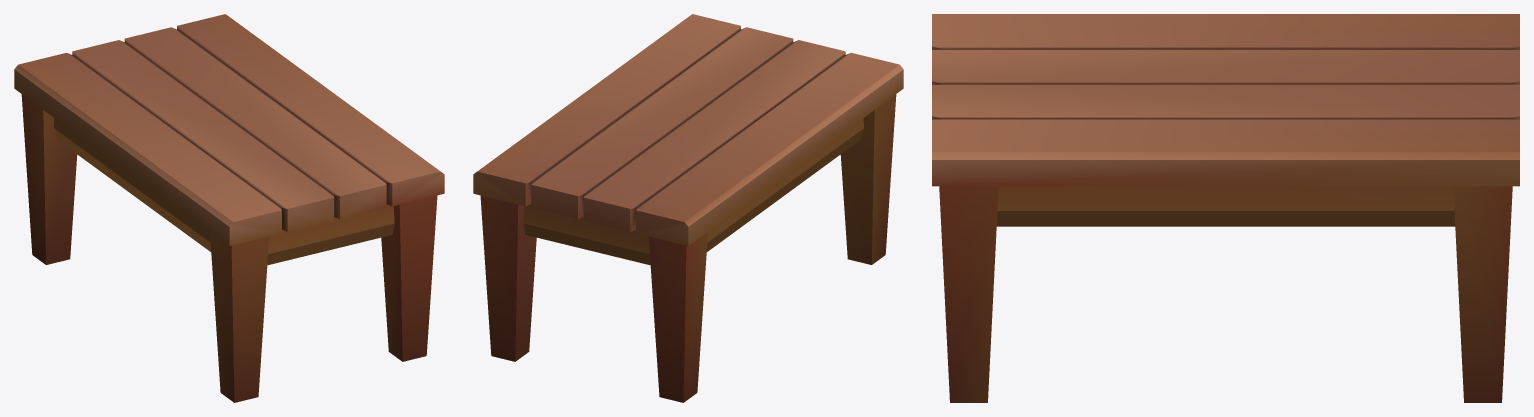
The model's file is Table_2.fbx.
3 views of the same model, side by side, from view 1: azimuth 30°, elevation 25°; view 2: azimuth 150°, elevation 25°; view 3: azimuth 270°, elevation 25° (orthographic). The views are drawn at different scales.
Parts seen in each view (by area): view 1: Table 2; view 2: Table 2; view 3: Table 2.
Part boxes in pixels (box(x1,y1,x2,y2)): Table 2: box(14, 14, 444, 402); Table 2: box(473, 14, 903, 402); Table 2: box(932, 14, 1519, 402).
Size of the model in its own units: 116 by 96.66 by 201.
